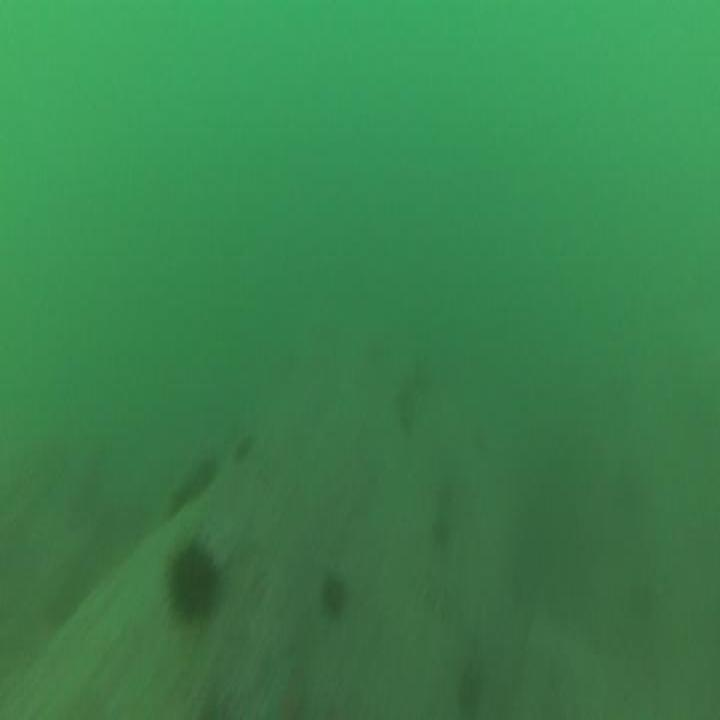echinus: (163, 535, 223, 631), (165, 448, 218, 517), (316, 567, 350, 628), (455, 670, 486, 720), (394, 382, 417, 437), (428, 510, 454, 551), (232, 423, 256, 466)
